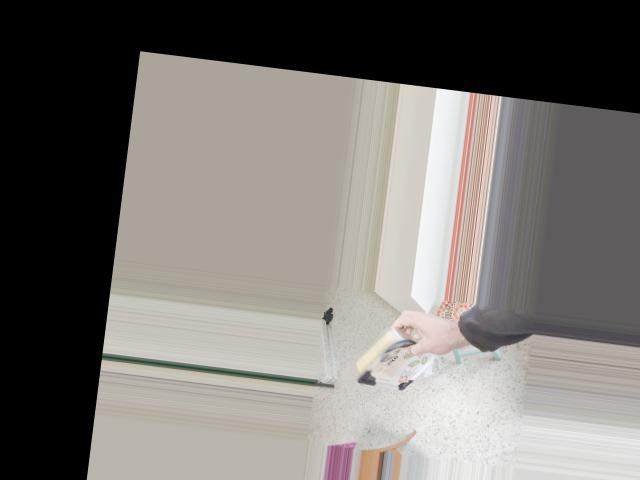cheese: (331, 296, 437, 417)
